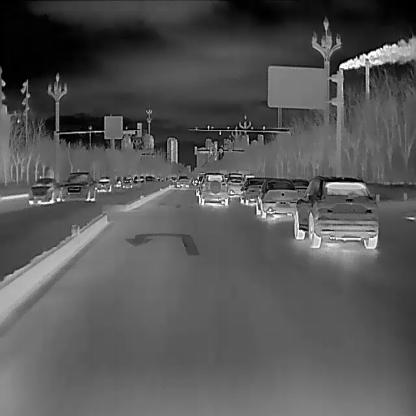car: (292, 174, 378, 250), (254, 176, 299, 218), (196, 172, 228, 206), (59, 171, 96, 200), (27, 177, 64, 206), (239, 175, 265, 204), (225, 172, 244, 197), (96, 176, 111, 192), (175, 173, 188, 187), (121, 174, 133, 188)
